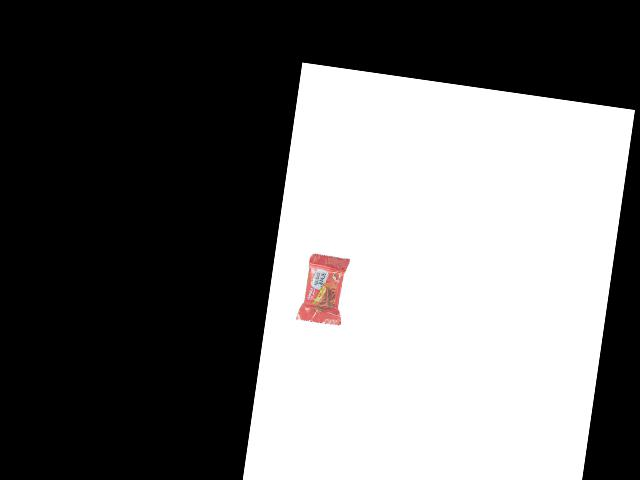chocolate: (291, 245, 350, 326)
